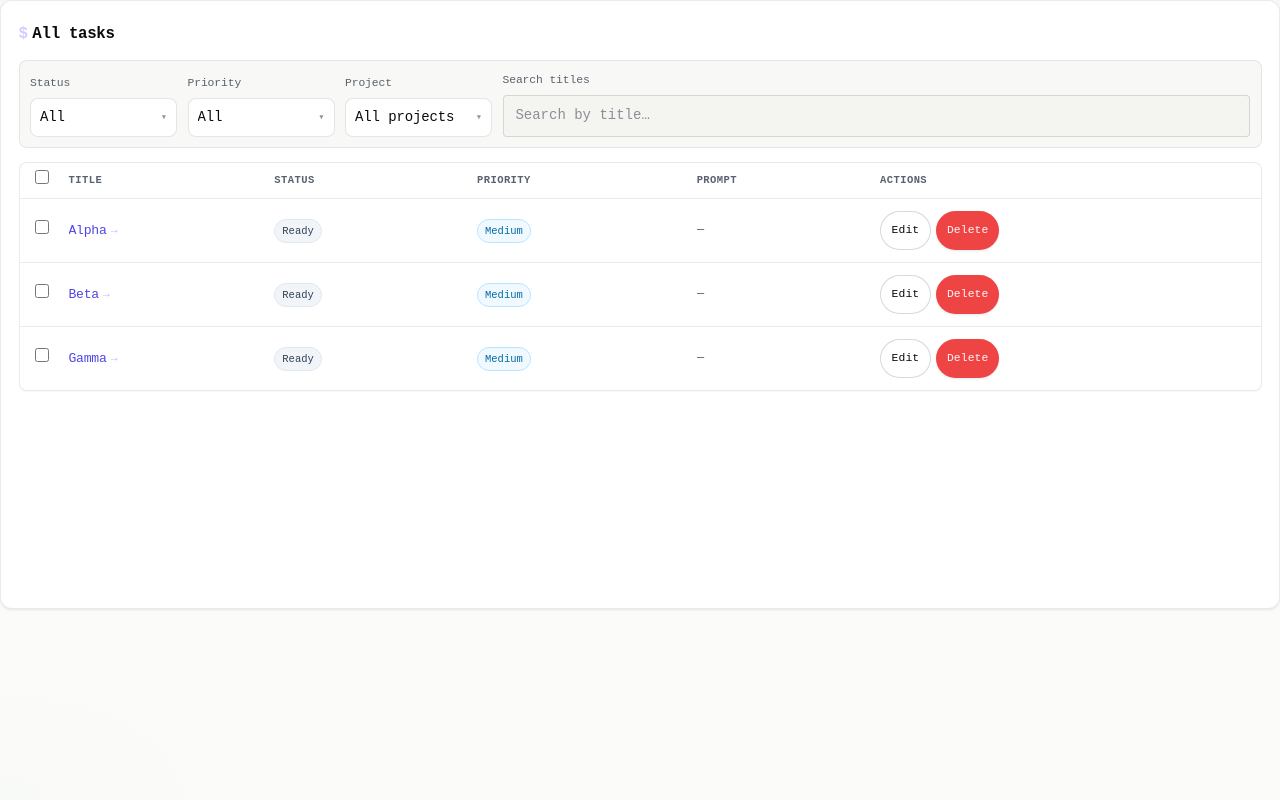
Scenario: TaskListSection › bulk reschedule › select-all-visible toggles every row in the filtered set
Click the checkbox with test id "task-list-select-all". click: [42, 177]
box: top-left (35, 170), bottom-right (49, 184)
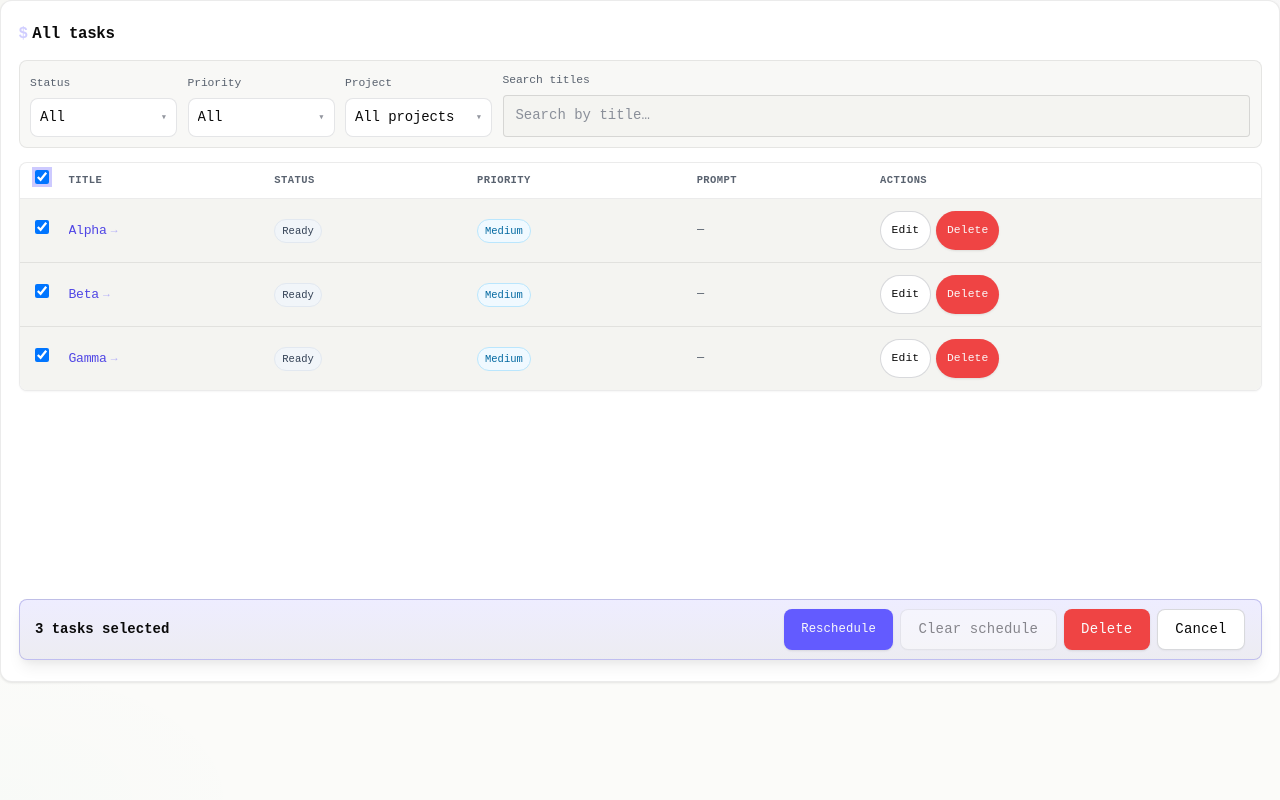
Result: the text with test id "task-list-bulk-bar-summary" reads "3 tasks selected" at top-left (35, 619), bottom-right (169, 641)
Click the checkbox with test id "task-list-select-all". click: [42, 177]
box: top-left (35, 170), bottom-right (49, 184)
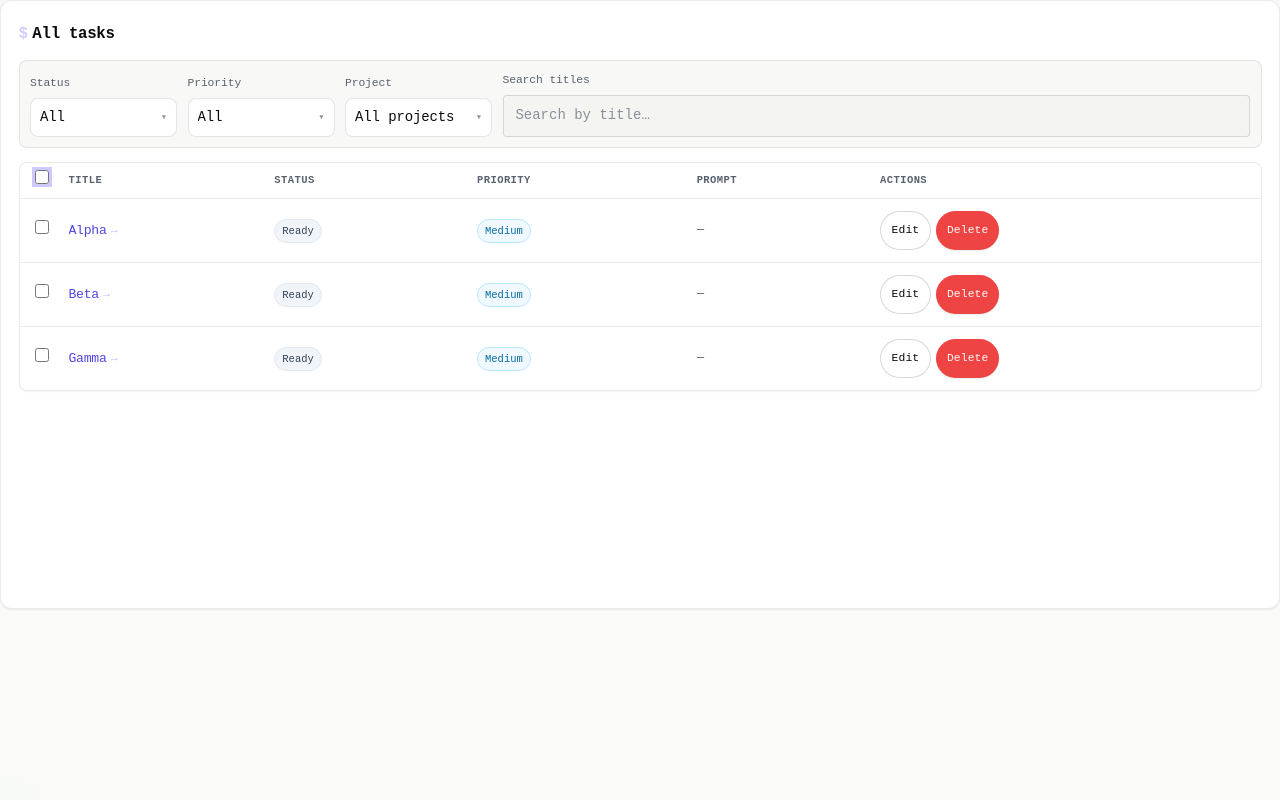
Result: the element with test id "task-list-bulk-bar" is gone
